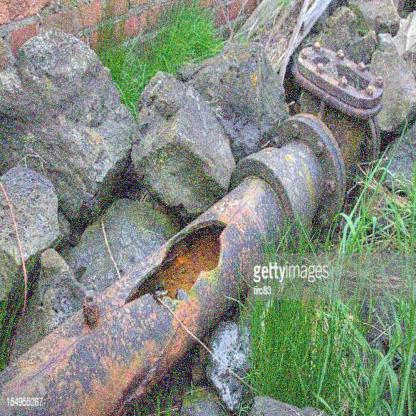burst: (127, 215, 236, 320)
